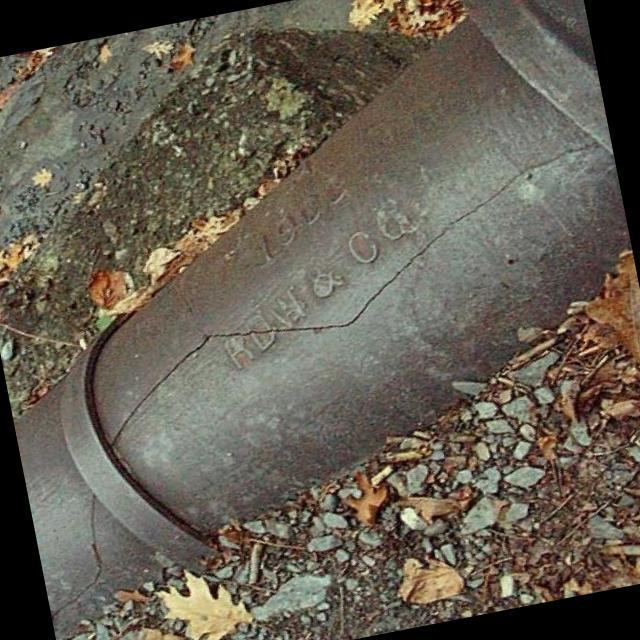defect: (109, 137, 606, 448), (54, 489, 107, 620)
